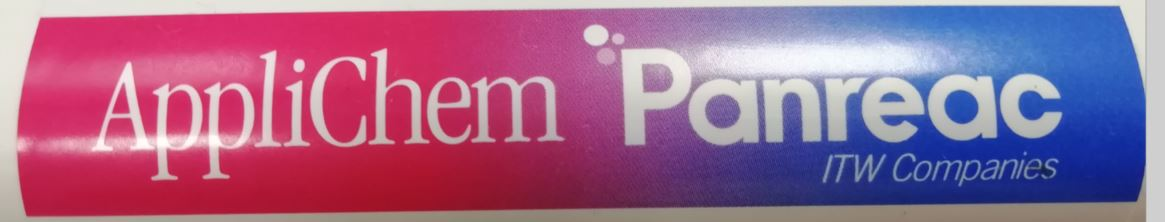ApplichemPanreac: (87, 22, 1068, 190)
